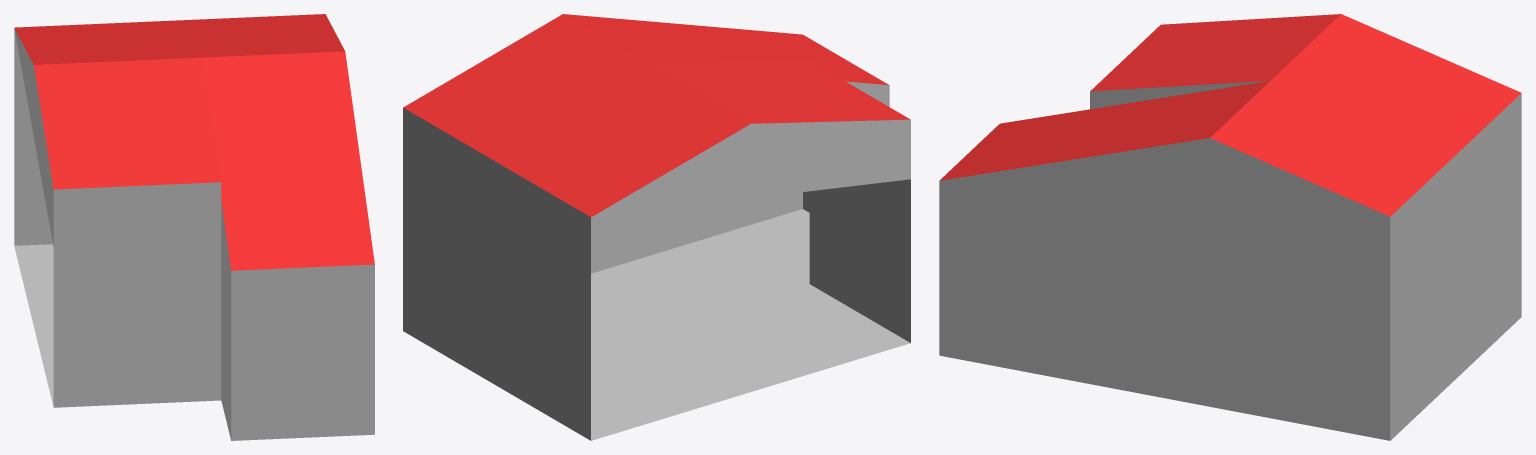
File: pb-9635c10b-7f36-11f0-b9bd-9c7bef4dcf4c.dae
3 views of the same model, side by side, from view 1: azimuth 30°, elevation 25°; view 2: azimuth 150°, elevation 25°; view 3: azimuth 270°, elevation 25° (orthographic). The views are drawn at different scales.
Bounding box in the file's own units: 9.2 × 11.78 × 6.
